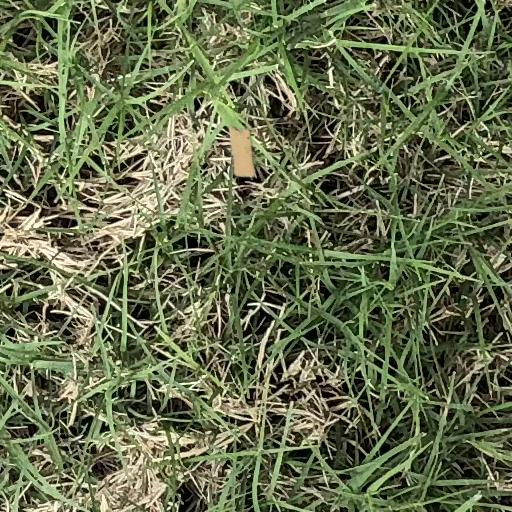smoke: (230, 127, 254, 177)
